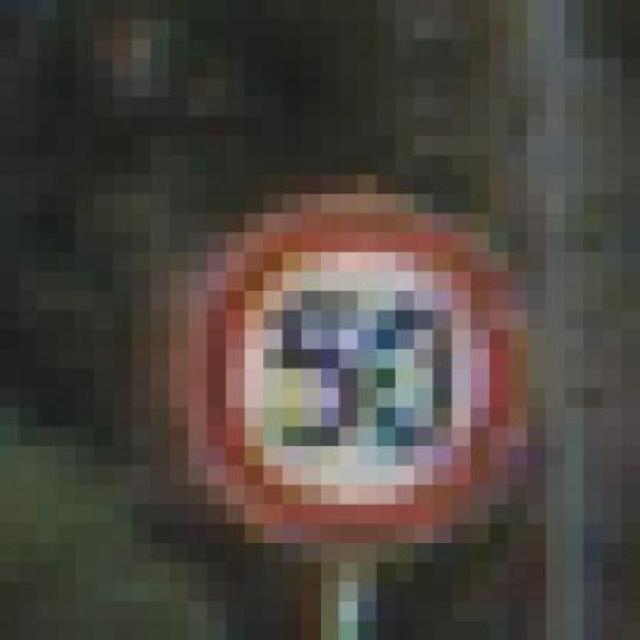Speed limit 50: (172, 183, 538, 546)
